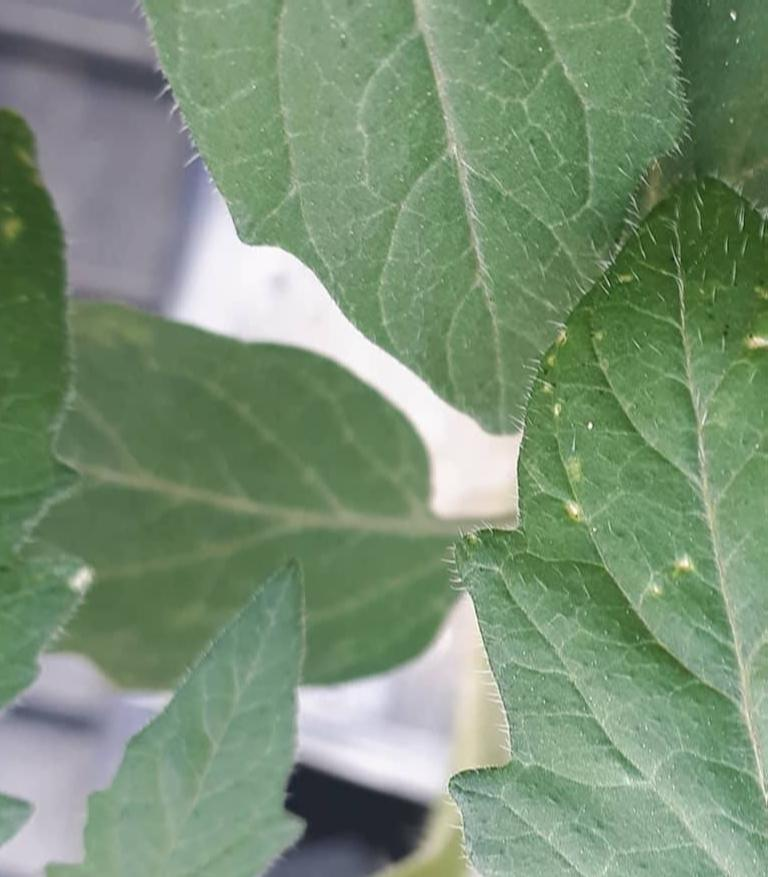Tomato mold leaf: (0, 0, 768, 470), (429, 154, 768, 877)
